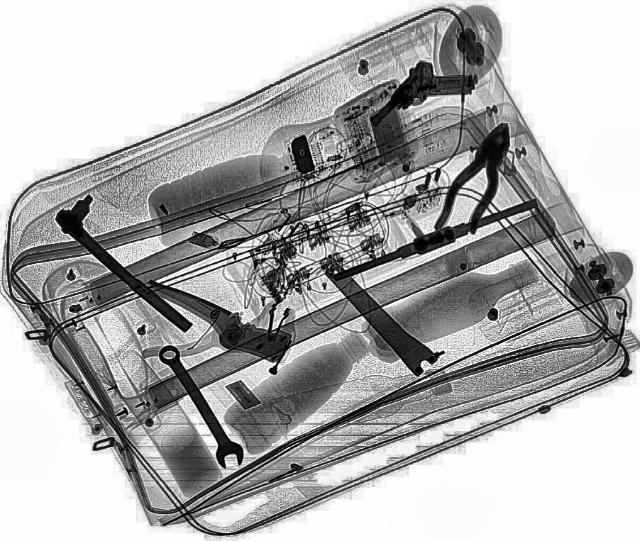Gun: (363, 48, 483, 150)
Pliers: (430, 116, 526, 240)
Wrench: (148, 342, 250, 470)
